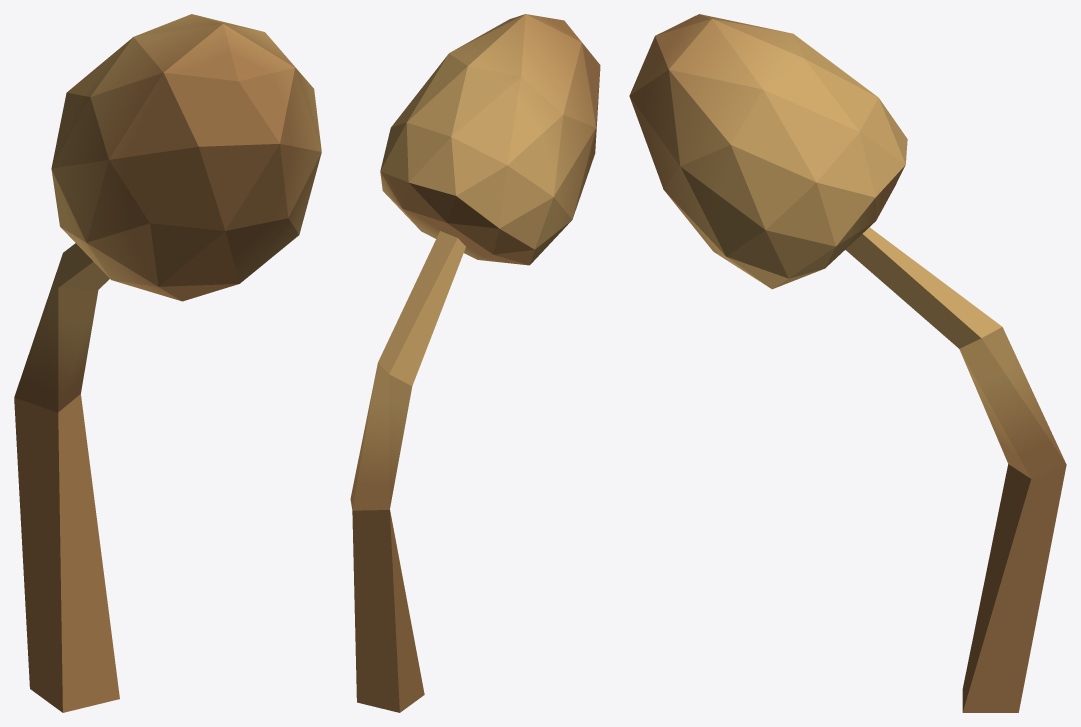
File: Mushroom_5.fbx
3 renders of one model, left to right at view 1: azimuth 30°, elevation 25°; view 2: azimuth 150°, elevation 25°; view 3: azimuth 270°, elevation 25°, orthographic. The views are drawn at different scales.
Parts seen in each view (by area): view 1: Mushroom_5; view 2: Mushroom_5; view 3: Mushroom_5.
Boxes of the visible parts, <box> form: Mushroom_5: <box>14,14,321,712</box>; Mushroom_5: <box>350,14,600,712</box>; Mushroom_5: <box>629,14,1066,712</box>.
Size of the model in its own units: 25.65 by 85.55 by 50.17.
